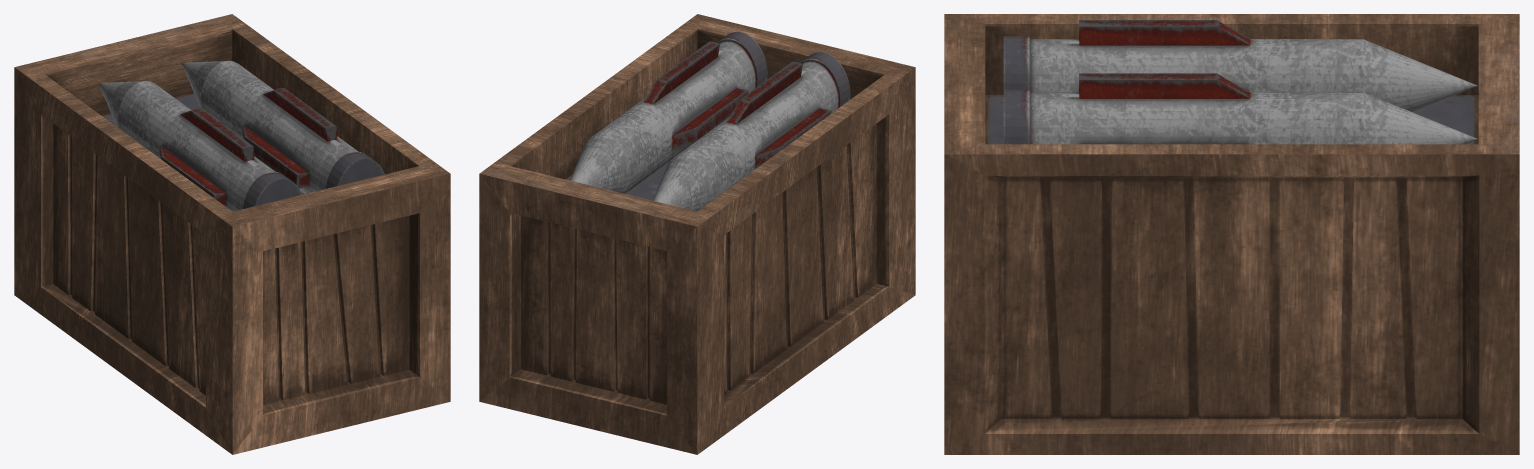
File: Ammo.fbx
3 views of the same model, side by side, from view 1: azimuth 30°, elevation 25°; view 2: azimuth 150°, elevation 25°; view 3: azimuth 270°, elevation 25° (orthographic). The views are drawn at different scales.
Visible parts, largest first — view 1: ammo2; view 2: ammo2; view 3: ammo2.
Part boxes in pixels (x1,y1,x2,y2): ammo2: (14,14,450,454); ammo2: (479,14,915,454); ammo2: (944,14,1519,454).
Bounding box in the file's own units: 2 × 2.23 × 3.47.
